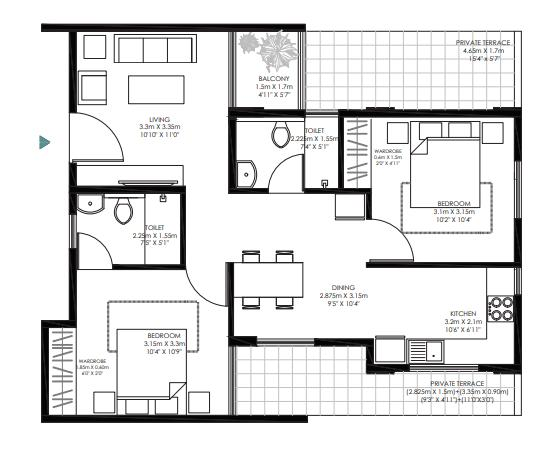Balcony: (234, 32, 299, 113)
Bed: (407, 120, 479, 204), (118, 329, 189, 414), (110, 166, 185, 189)
Bedroom: (77, 270, 231, 421), (371, 119, 517, 262)
Dining Room: (232, 237, 372, 339)
Dining table: (230, 244, 312, 314)
Kitchen: (374, 267, 519, 362)
Living Room: (77, 34, 224, 184)
Sofa: (114, 38, 193, 61), (77, 68, 109, 102)
Terrace: (234, 346, 519, 416), (306, 31, 522, 111)
Wardrobe: (50, 329, 76, 416), (344, 119, 372, 191)
commode: (117, 195, 131, 225), (273, 122, 289, 146)
door: (70, 113, 123, 161), (368, 216, 417, 262), (185, 266, 227, 306), (268, 154, 306, 192), (77, 232, 112, 266)
sink: (405, 339, 444, 365), (238, 161, 256, 189), (77, 195, 105, 213)
stove: (485, 294, 518, 322)
toilet: (76, 192, 181, 266), (239, 119, 339, 192)
utility: (375, 312, 449, 366)
